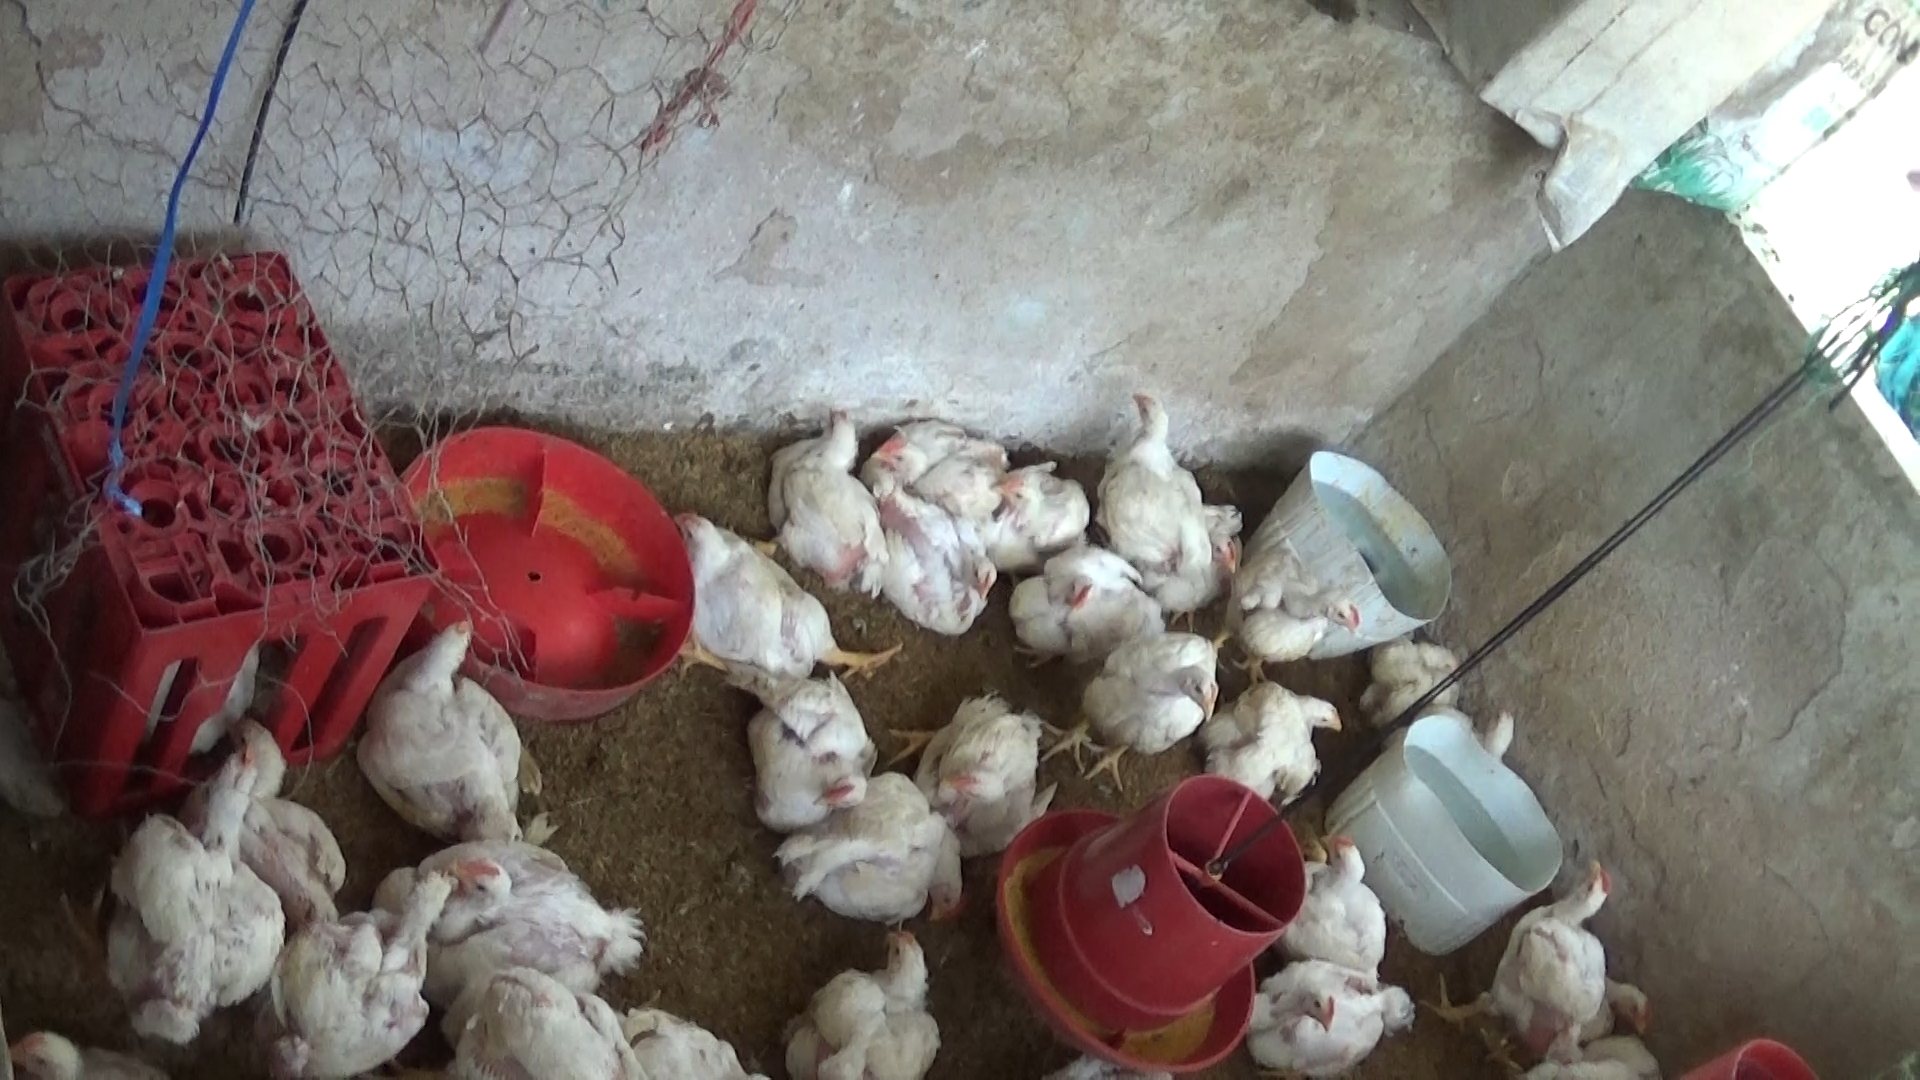Pollos: (84, 728, 272, 1040), (659, 495, 913, 709), (351, 617, 551, 858), (1429, 833, 1633, 1048), (435, 814, 647, 1002), (284, 855, 462, 1073), (761, 769, 978, 934), (1042, 622, 1218, 794), (782, 923, 967, 1080), (761, 392, 881, 601), (738, 662, 872, 839), (909, 680, 1036, 852), (1241, 949, 1408, 1065), (1114, 384, 1225, 558), (858, 397, 1017, 506), (1221, 674, 1350, 798), (1291, 829, 1400, 975), (1013, 545, 1166, 644), (1221, 551, 1366, 646)
